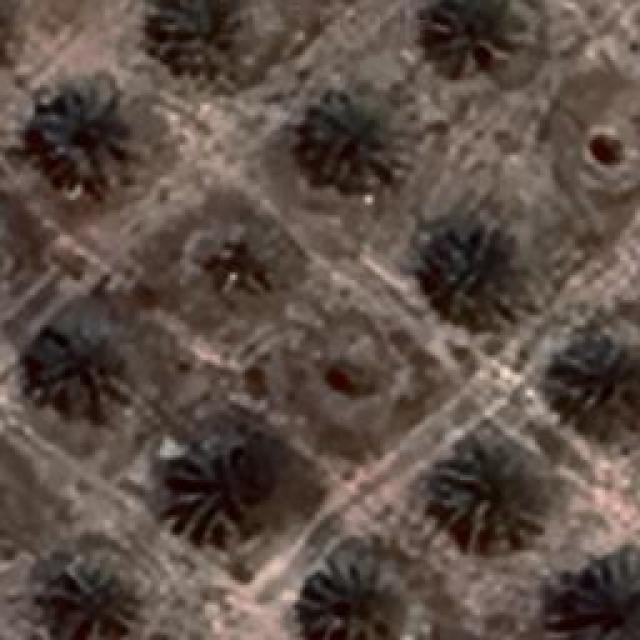PalmTree: (12, 36, 471, 275), (305, 88, 420, 190), (25, 312, 133, 412), (35, 80, 130, 190), (162, 438, 260, 538), (437, 450, 545, 540), (188, 210, 288, 304), (150, 0, 248, 88), (300, 560, 402, 638), (420, 0, 522, 78), (560, 544, 638, 638), (44, 562, 138, 636), (560, 330, 638, 412), (0, 0, 17, 76)
